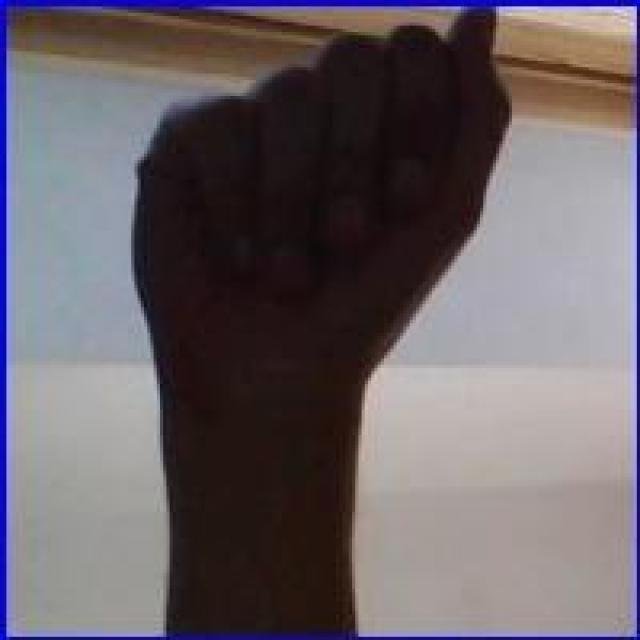A: (109, 9, 534, 390)
